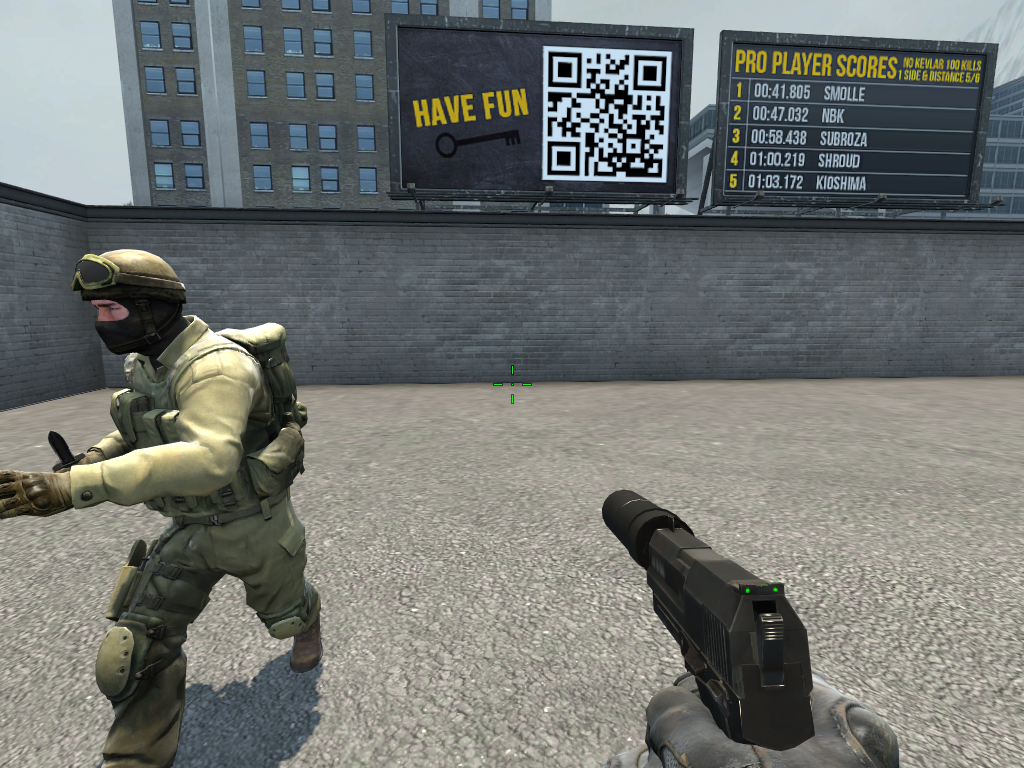ct head: (66, 242, 191, 359)
